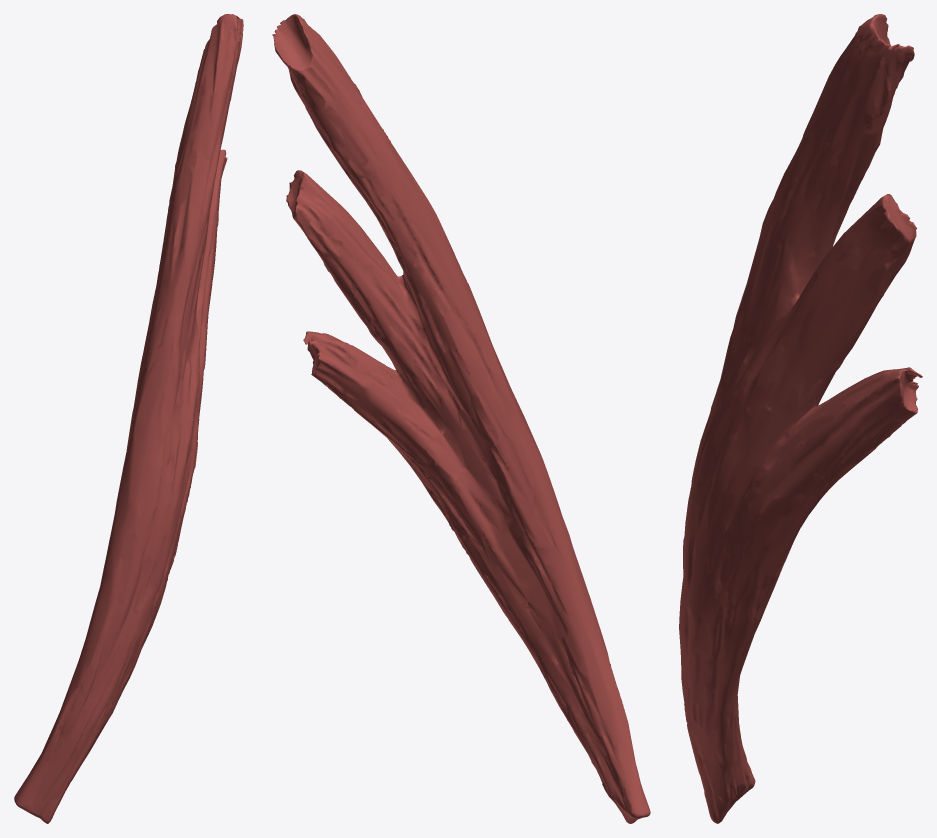
Rendered from FMA13392.glb.
The picture shows the model from 3 angles, left to right: view 1: azimuth 30°, elevation 25°; view 2: azimuth 150°, elevation 25°; view 3: azimuth 270°, elevation 25°; orthographic projection. The views are drawn at different scales.
Parts seen in each view (by area): view 1: FMA13392; view 2: FMA13392; view 3: FMA13392.
Boxes of the visible parts, x1,y1,x2,y2 form: FMA13392: (14, 14, 243, 823); FMA13392: (272, 14, 650, 823); FMA13392: (679, 14, 922, 823).
Bounding box in the file's own units: 0.0332 × 0.0802 × 0.0183.
